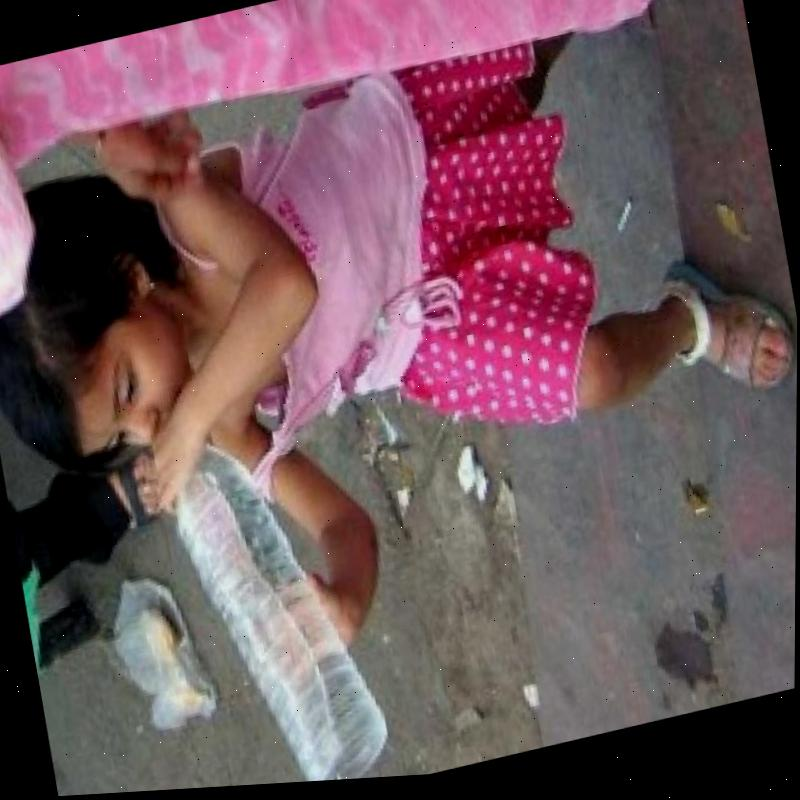botella: (156, 403, 403, 793)
